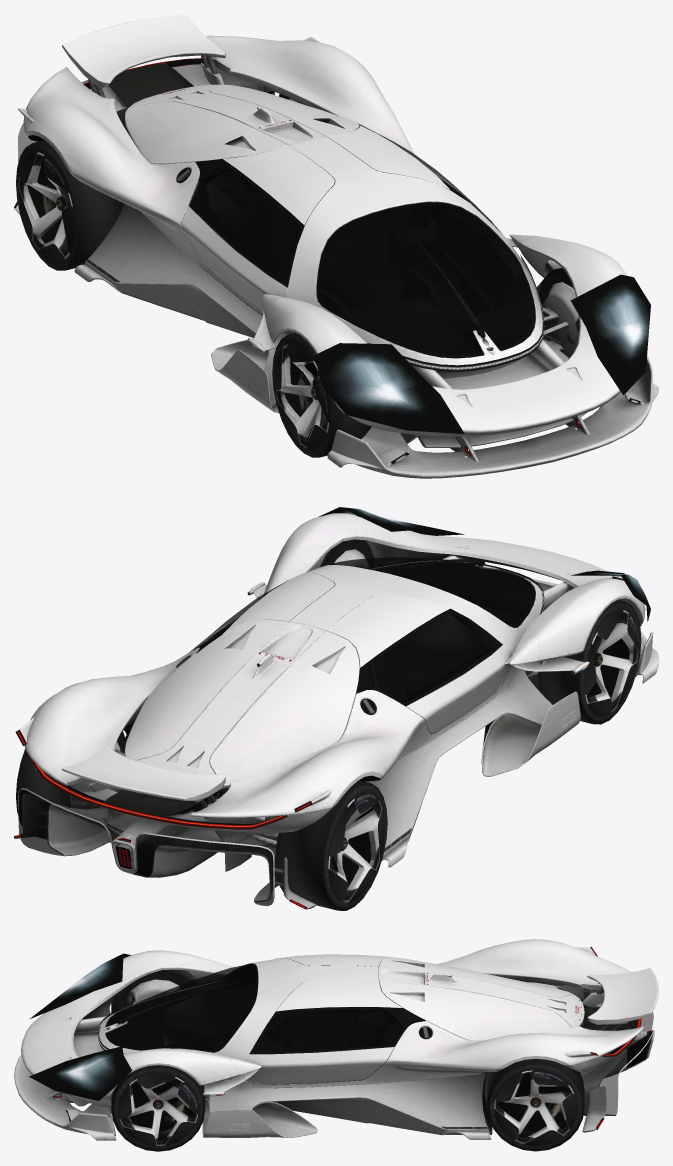
Rendered from vision.m.glb.
The picture shows the model from 3 angles, top to bottom: view 1: azimuth 30°, elevation 25°; view 2: azimuth 150°, elevation 25°; view 3: azimuth 270°, elevation 25°; orthographic projection. The views are drawn at different scales.
Visible parts, largest first — view 1: chassis_carpaint.003, glasses_glass_windows.001, chassis_carpaint_3, lights_position_front_and_back_pivot_glows.001_Material.010_, chassis_carpaint_2, detach_door_R_50_carpaint.001, detach_door_L_50_carpaint.001, WheelBR_tyres, chassis_details.002, WheelBR_rims, WheelBR_carpaint_2, WheelFR_rims (+4 smaller); view 2: chassis_carpaint.003, chassis_carpaint_2, glasses_glass_windows.001, chassis_carpaint_3, detach_door_R_50_carpaint.001, WheelBR_tyres, chassis_glass_light, lights_position_front_and_back_pivot_glows.001_Material.010_, detach_door_L_50_carpaint.001, WheelFR_tyres, chassis_details.002, WheelBR_rims (+6 smaller); view 3: chassis_carpaint.003, glasses_glass_windows.001, chassis_carpaint_2, chassis_carpaint_3, detach_door_L_50_carpaint.001, lights_position_front_and_back_pivot_glows.001_Material.010_, WheelBL_tyres, WheelBL_rims, WheelFL_rims, WheelFL_tyres, WheelBL_carpaint_2, WheelFL_carpaint_2 (+8 smaller).
Boxes of the visible parts, <box> form: chassis_carpaint.003: <box>18,14,627,446</box>; glasses_glass_windows.001: <box>188,124,535,358</box>; chassis_carpaint_3: <box>14,63,653,476</box>; lights_position_front_and_back_pivot_glows.001_Material.010_: <box>83,58,650,433</box>; chassis_carpaint_2: <box>15,91,658,478</box>; detach_door_R_50_carpaint.001: <box>181,145,334,317</box>; detach_door_L_50_carpaint.001: <box>326,124,535,272</box>; WheelBR_tyres: <box>16,140,124,270</box>; chassis_details.002: <box>86,55,629,463</box>; WheelBR_rims: <box>18,152,74,261</box>; WheelBR_carpaint_2: <box>18,152,72,259</box>; WheelFR_rims: <box>275,343,329,449</box>; chassis_carpaint.003: <box>20,513,645,871</box>; chassis_carpaint_2: <box>22,544,658,907</box>; glasses_glass_windows.001: <box>189,557,535,706</box>; chassis_carpaint_3: <box>18,555,652,909</box>; detach_door_R_50_carpaint.001: <box>326,594,539,733</box>; WheelBR_tyres: <box>275,780,387,910</box>; chassis_glass_light: <box>18,789,273,904</box>; lights_position_front_and_back_pivot_glows.001_Material.010_: <box>26,507,650,829</box>; detach_door_L_50_carpaint.001: <box>187,572,334,653</box>; WheelFR_tyres: <box>538,599,641,724</box>; chassis_details.002: <box>93,559,589,852</box>; WheelBR_rims: <box>328,792,384,901</box>; chassis_carpaint.003: <box>20,939,658,1132</box>; glasses_glass_windows.001: <box>105,963,424,1054</box>; chassis_carpaint_2: <box>18,960,654,1140</box>; chassis_carpaint_3: <box>14,1011,653,1133</box>; detach_door_L_50_carpaint.001: <box>231,979,424,1084</box>; lights_position_front_and_back_pivot_glows.001_Material.010_: <box>29,953,641,1100</box>; WheelBL_tyres: <box>487,1058,584,1151</box>; WheelBL_rims: <box>494,1070,577,1145</box>; WheelFL_rims: <box>118,1073,198,1145</box>; WheelFL_tyres: <box>111,1065,205,1151</box>; WheelBL_carpaint_2: <box>494,1070,574,1143</box>; WheelFL_carpaint_2: <box>119,1077,197,1146</box>.
Bounding box in the file's own units: 2.13 × 1.03 × 4.85.
8 materials, 7 textured.
